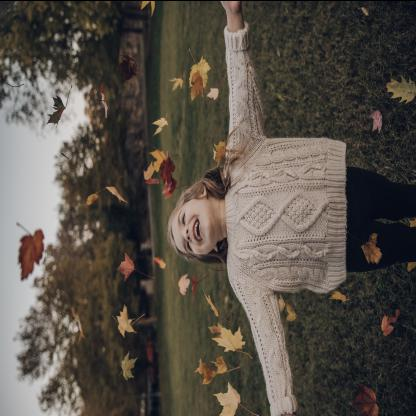Eye: (180, 211, 186, 225), (186, 238, 192, 250)
Mouth: (192, 218, 203, 242)
Nose: (184, 226, 191, 241)
